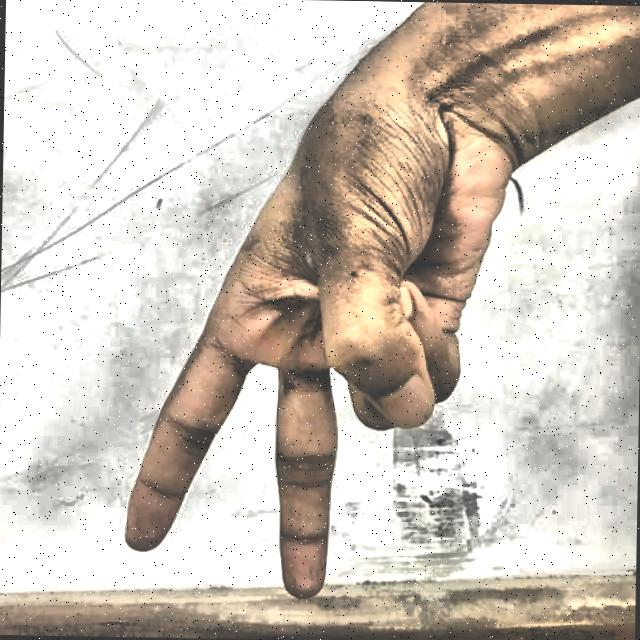Pa: (102, 59, 535, 616)
